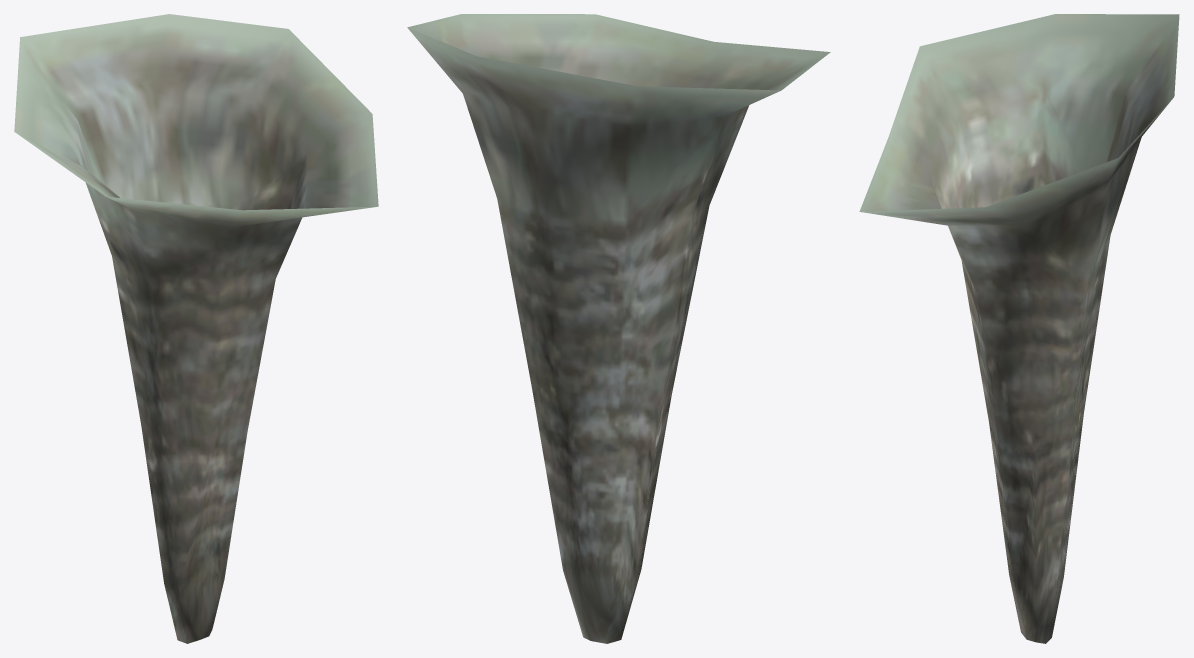
Rendered from TROLLHOLE02_PS-UPPERSTALAG17.fbx.
3 renders of one model, left to right at view 1: azimuth 30°, elevation 25°; view 2: azimuth 150°, elevation 25°; view 3: azimuth 270°, elevation 25°, orthographic. The views are drawn at different scales.
Visible parts, largest first — view 1: TROLLHOLE02_PS-UPPERSTALAG17; view 2: TROLLHOLE02_PS-UPPERSTALAG17; view 3: TROLLHOLE02_PS-UPPERSTALAG17.
Boxes of the visible parts, x1,y1,x2,y2 form: TROLLHOLE02_PS-UPPERSTALAG17: [14, 14, 378, 643]; TROLLHOLE02_PS-UPPERSTALAG17: [407, 14, 830, 643]; TROLLHOLE02_PS-UPPERSTALAG17: [859, 14, 1179, 643].
Size of the model in its own units: 13178 by 22473 by 11301.
1 material, 1 textured.
